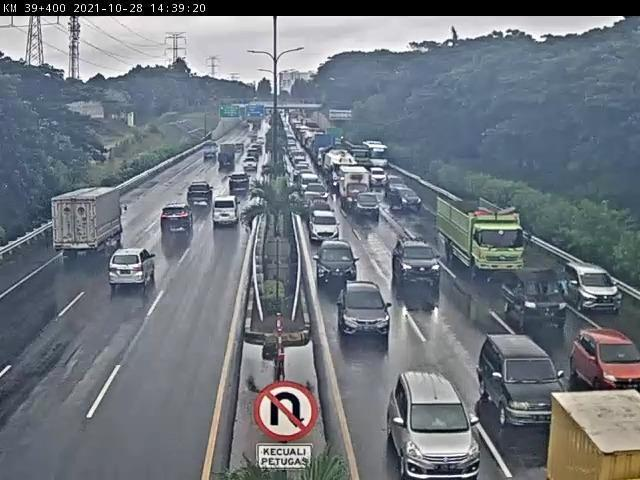car: (386, 373, 481, 480), (478, 336, 569, 428), (572, 331, 640, 395), (336, 281, 396, 334), (564, 263, 623, 313), (394, 240, 442, 283), (316, 239, 359, 285), (109, 249, 155, 289), (311, 208, 340, 242), (382, 187, 421, 211), (213, 198, 242, 225), (159, 208, 193, 231), (188, 180, 214, 207), (355, 192, 380, 215), (227, 173, 251, 194), (383, 174, 408, 193), (305, 191, 326, 211), (308, 199, 332, 215), (306, 184, 329, 200)
truck: (442, 199, 526, 272), (53, 189, 126, 258), (504, 269, 568, 330), (341, 170, 371, 205)
